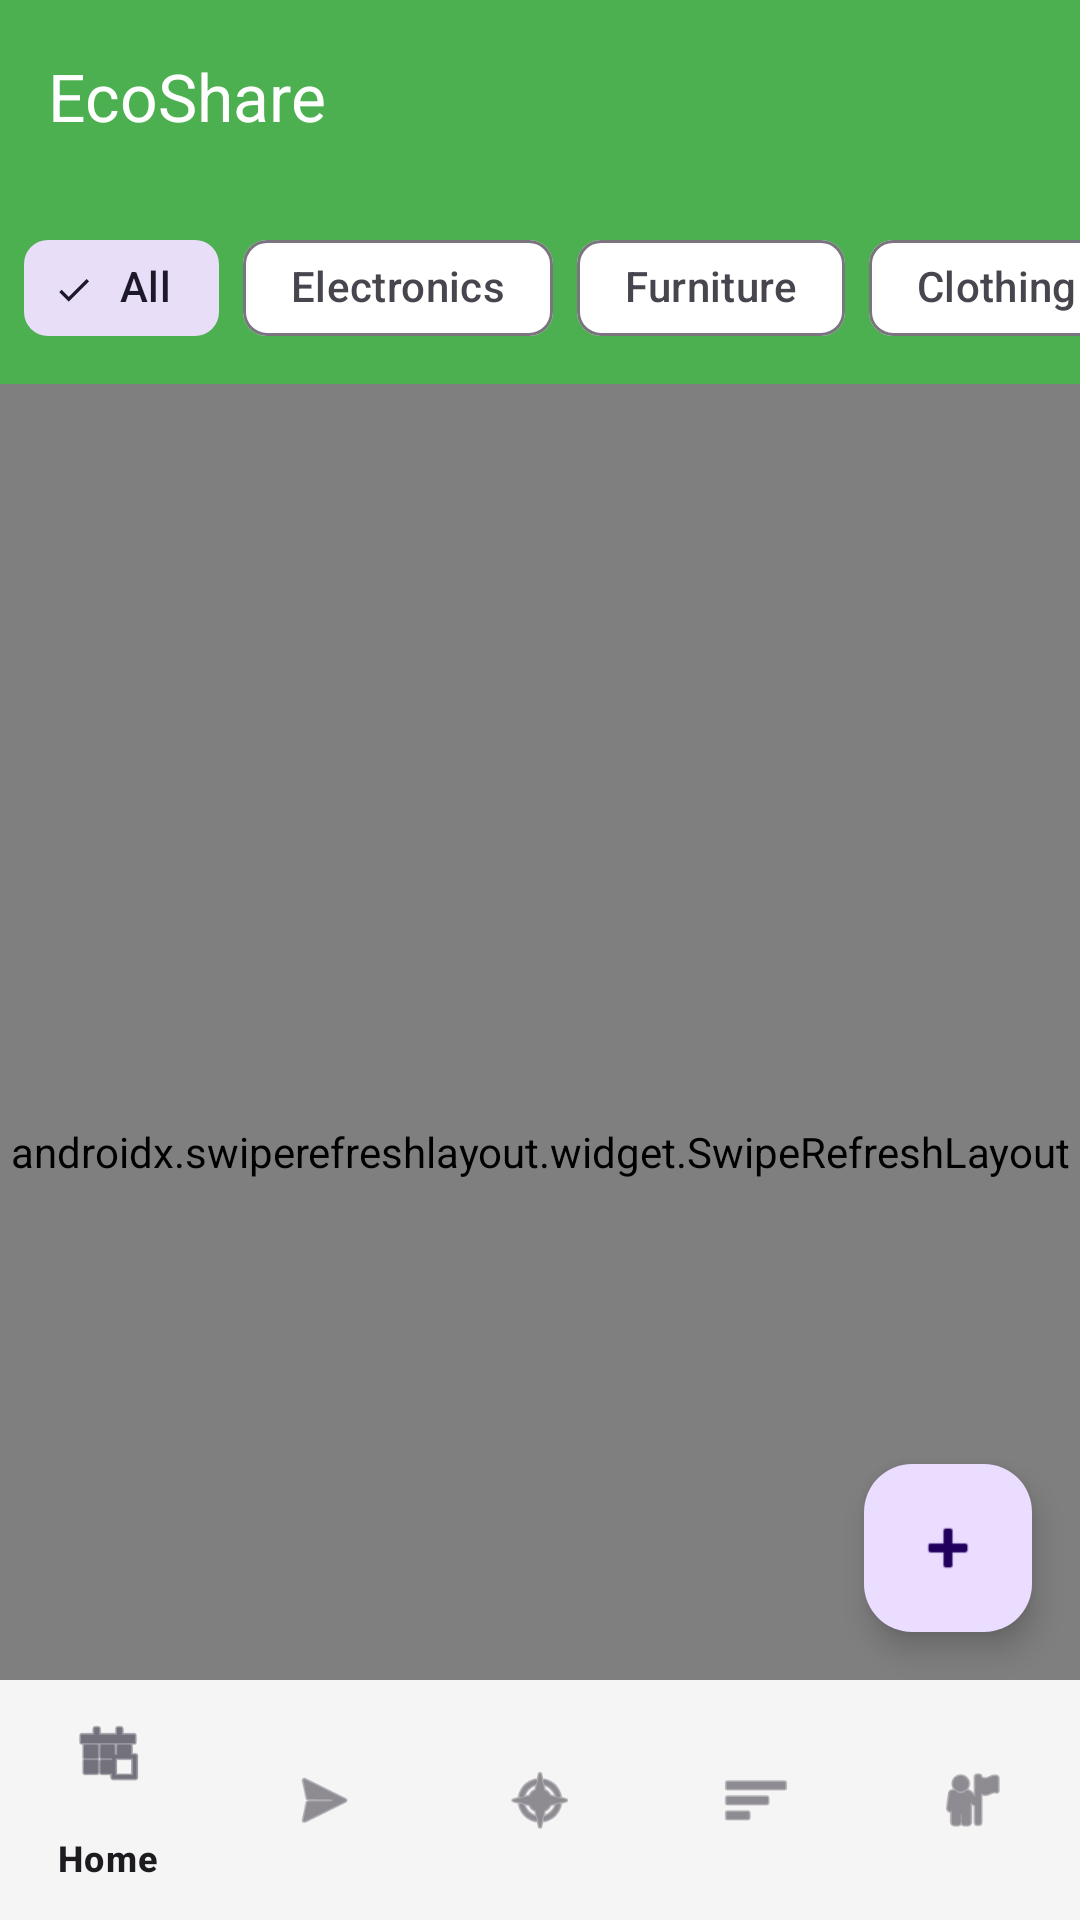

Icons on this 1080 x 1920 Android screen, each with its box as box(x1, y1, x2, y2):
Add Item: box(864, 1464, 1032, 1632)
